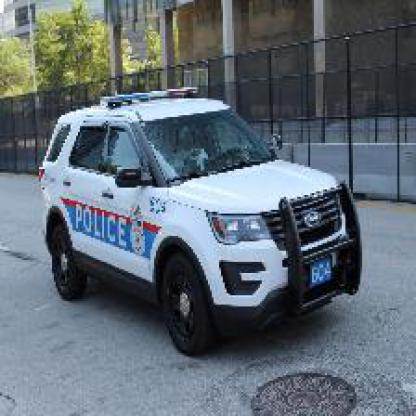emergency: (34, 82, 370, 363)
